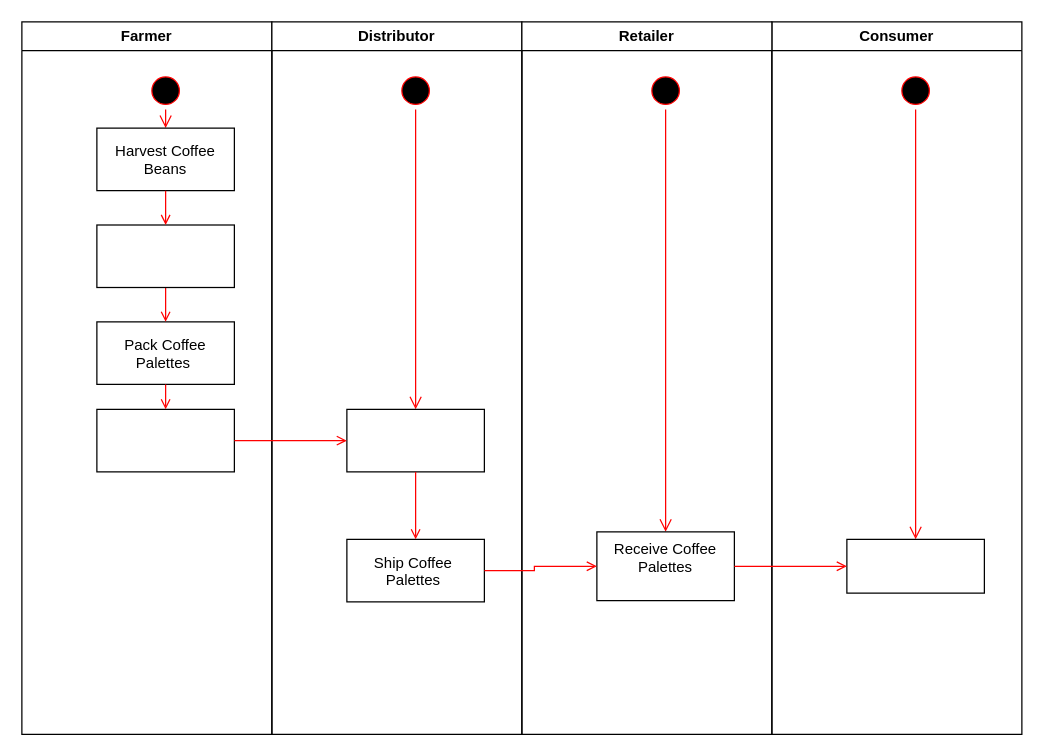
Some shapes in this 1044 by 756 pixel diagram are drawn without their labels. The centre of each missing label's shape, as x and y in pixels:
"Buy Coffee Bags" goes at (915,565).
"Buy Coffee Palettes" goes at (415,440).
"Process Coffee Beans" goes at (165,256).
"Sell Coffee Palettes" goes at (165,440).
